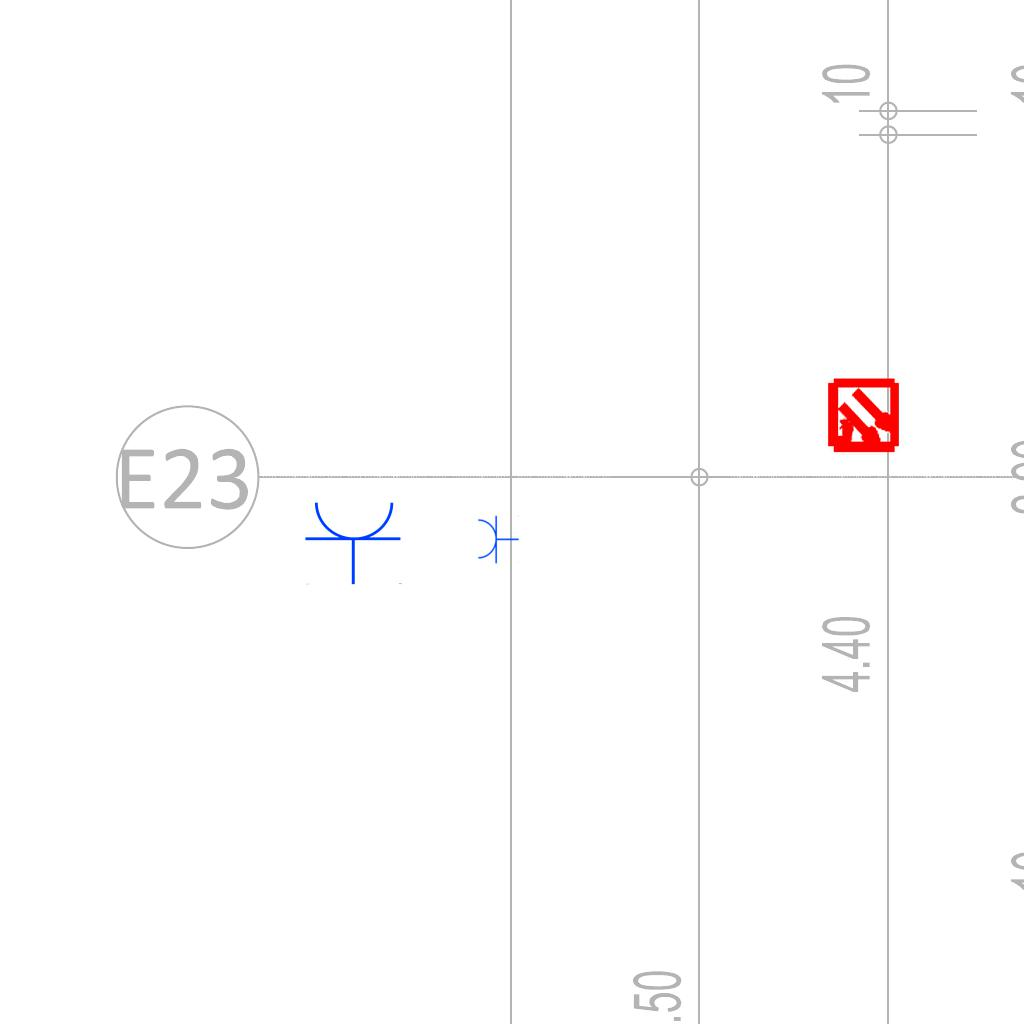OT_Multisensormelder_(Kombination_RMO_WMD): (807, 361, 920, 474)
Schukosteckdose_einfach: (304, 498, 404, 585), (476, 514, 519, 564)
